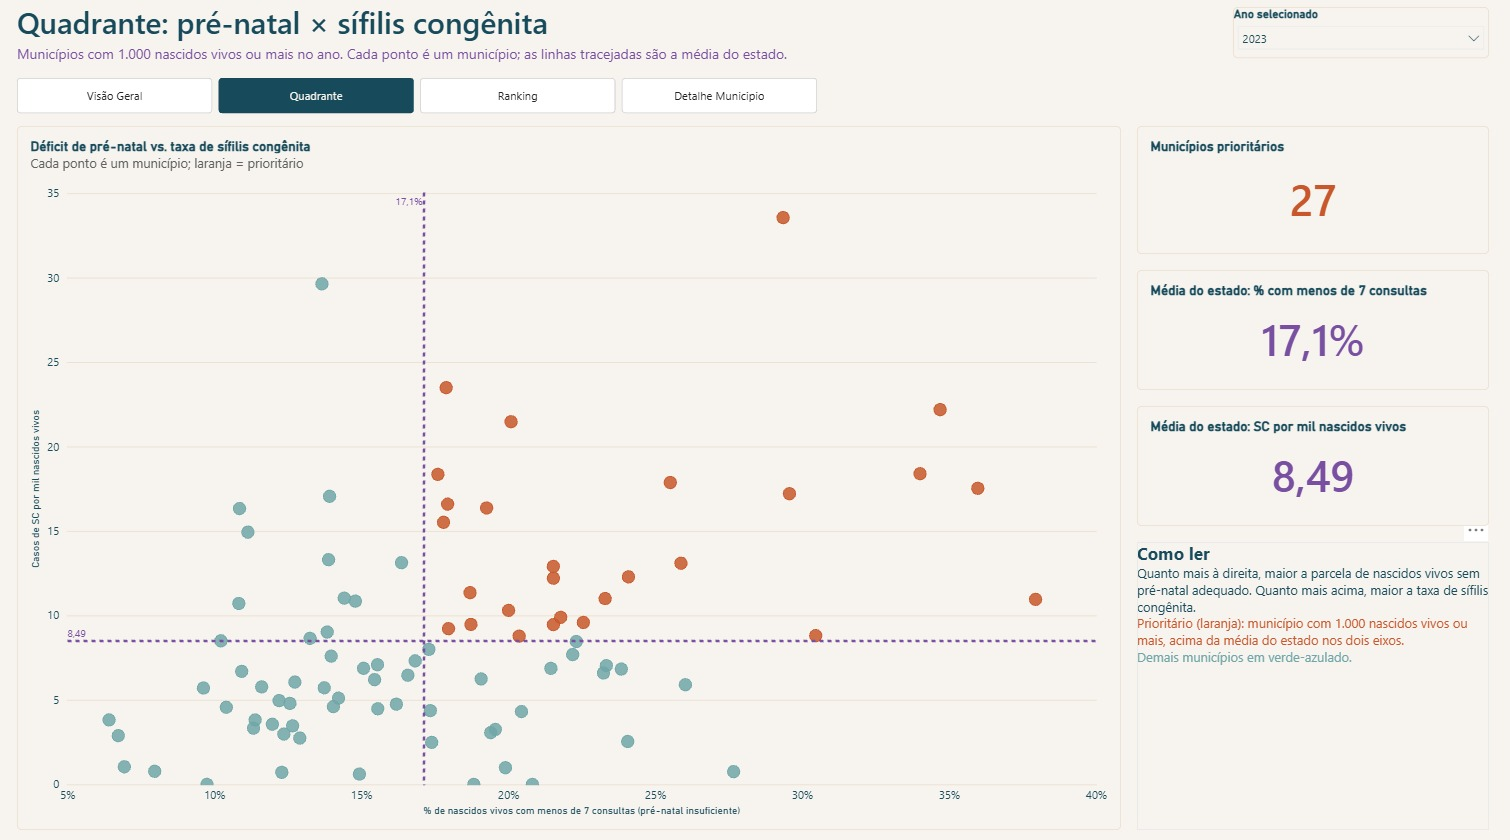

The page's visual inventory and layout, read from the dashboard file:
{"tool":"powerbi","page":{"name":"Quadrante","canvas":[1920,1080],"ordinal":1},"visuals":[{"type":"textbox","box":[40,70,1400,30],"z":0},{"type":"textbox","box":[1440,692,440,360],"z":1000},{"type":"textbox","box":[40,18,1300,56],"z":2000},{"type":"pageNavigator","box":[40,112,1000,44],"z":3000},{"type":"slicer","title":"Ano selecionado","fields":{"Values":["tabela_final.ano"]},"box":[1560,24,320,64],"z":4000},{"type":"scatterChart","title":"Déficit de pré-natal vs. taxa de sífilis congênita","fields":{"Category":["tabela_final.municipio"],"X":["tabela_final.% Menos 7 Consultas"],"Y":["tabela_final.Taxa Sifilis por Mil"]},"box":[40,172,1380,880],"z":5000},{"type":"card","title":"Municípios prioritários","fields":{"Values":["tabela_final.Nº Prioritários"]},"box":[1440,172,440,160],"z":6000},{"type":"card","title":"Média do estado: % com menos de 7 consultas","fields":{"Values":["tabela_final.Média Estado % Menos 7"]},"box":[1440,352,440,150],"z":7000},{"type":"card","title":"Média do estado: SC por mil nascidos vivos","fields":{"Values":["tabela_final.Média Estado Taxa"]},"box":[1440,522,440,150],"z":8000}]}

Visuals, with their boxes in screenshot pixels (x1, y1, x2, y2), scaled from the page's 1920x1080 canvas onto the 1510x840 screenshot:
textbox: box(31, 54, 1132, 78)
textbox: box(1132, 538, 1479, 818)
textbox: box(31, 14, 1054, 58)
pageNavigator: box(31, 87, 818, 121)
"Ano selecionado" slicer: box(1227, 19, 1479, 68)
"Déficit de pré-natal vs. taxa de sífilis congênita" scatterChart: box(31, 134, 1117, 818)
"Municípios prioritários" card: box(1132, 134, 1479, 258)
"Média do estado: % com menos de 7 consultas" card: box(1132, 274, 1479, 390)
"Média do estado: SC por mil nascidos vivos" card: box(1132, 406, 1479, 523)
